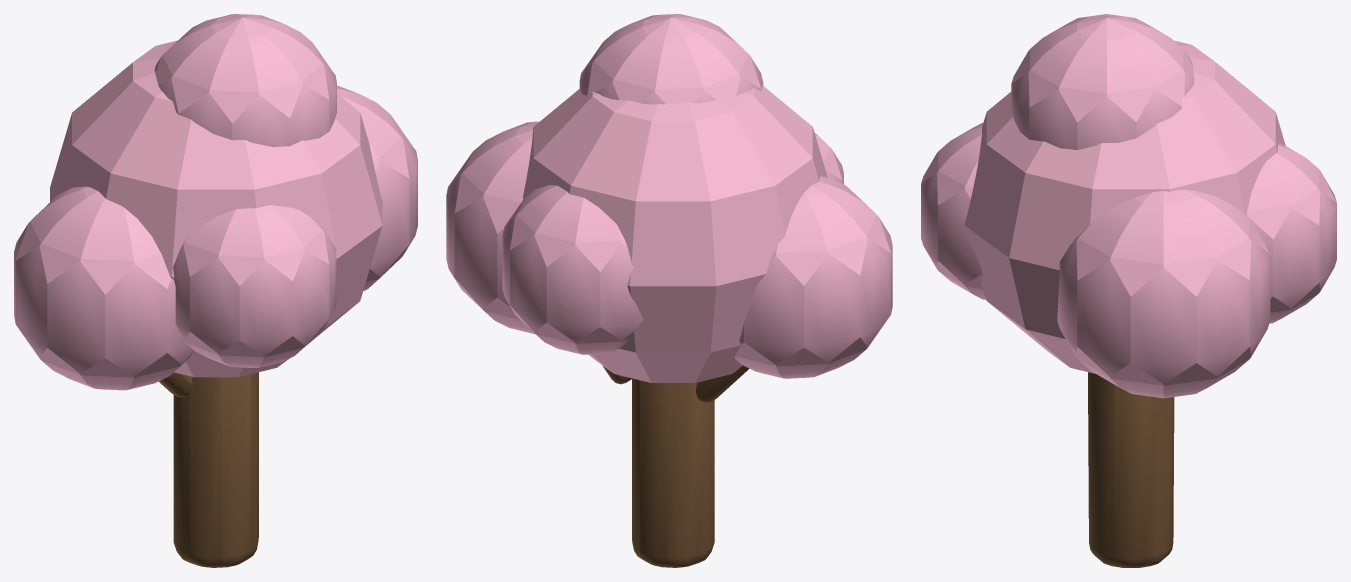
Rendered from sakura_tree.glb.
3 renders of one model, left to right at view 1: azimuth 30°, elevation 25°; view 2: azimuth 150°, elevation 25°; view 3: azimuth 270°, elevation 25°, orthographic. The views are drawn at different scales.
Visible parts, largest first — view 1: blossom_b; view 2: blossom_b; view 3: blossom_b.
Part boxes in pixels (x1,y1,x2,y2): blossom_b: (14, 14, 417, 567); blossom_b: (446, 14, 892, 567); blossom_b: (921, 14, 1336, 567).
Size of the model in its own units: 0.7183 by 0.925 by 0.6395.
